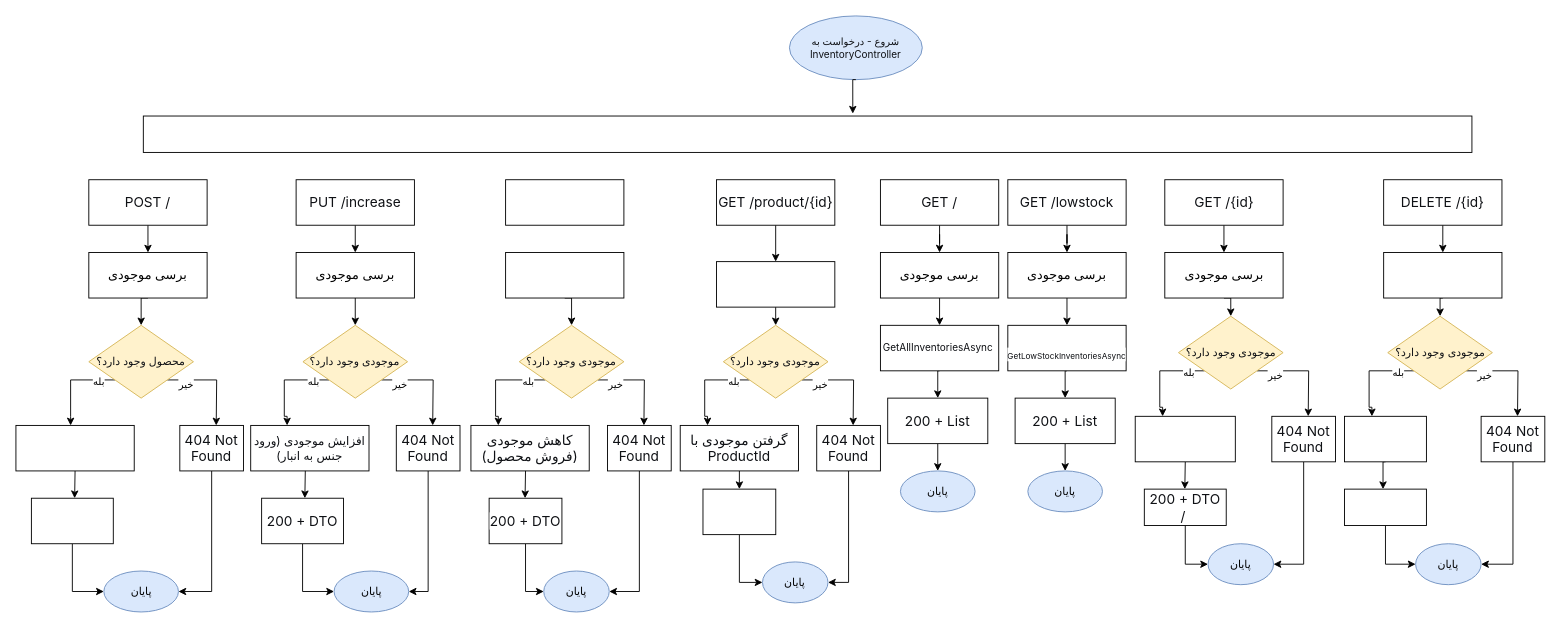
This 1562x628 diagram has some shape labels left out. Each missing label, with the box of its shape:
200 + Message: (1344, 488, 1426, 526)
201 + DTO: (30, 497, 113, 544)
PUT /decrease: (505, 179, 624, 225)
ایجاد موجودی برای محصول جدید: (15, 425, 134, 471)
بررسی HTTP Method + Route: (142, 115, 1472, 152)
برسی محصول: (1383, 252, 1502, 298)
حذف سابقه موجودی: (1344, 415, 1426, 462)
دریافت همه: (716, 261, 835, 307)
دریافت کمبودها: (505, 252, 624, 298)
گرفتن موجودی با Id: (1134, 415, 1235, 462)
